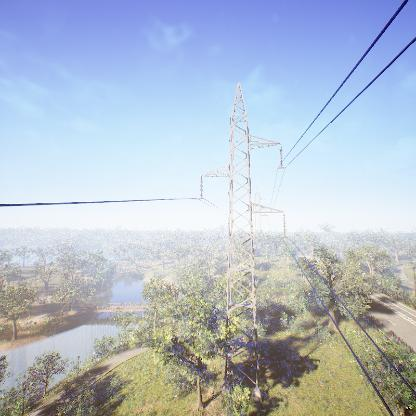tower: (197, 81, 290, 402)
